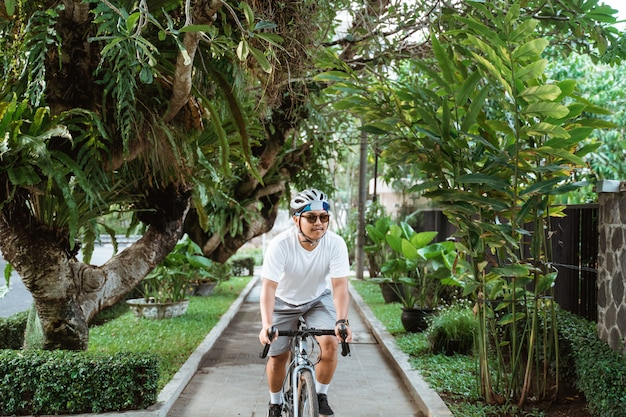helmet: (287, 188, 330, 240)
